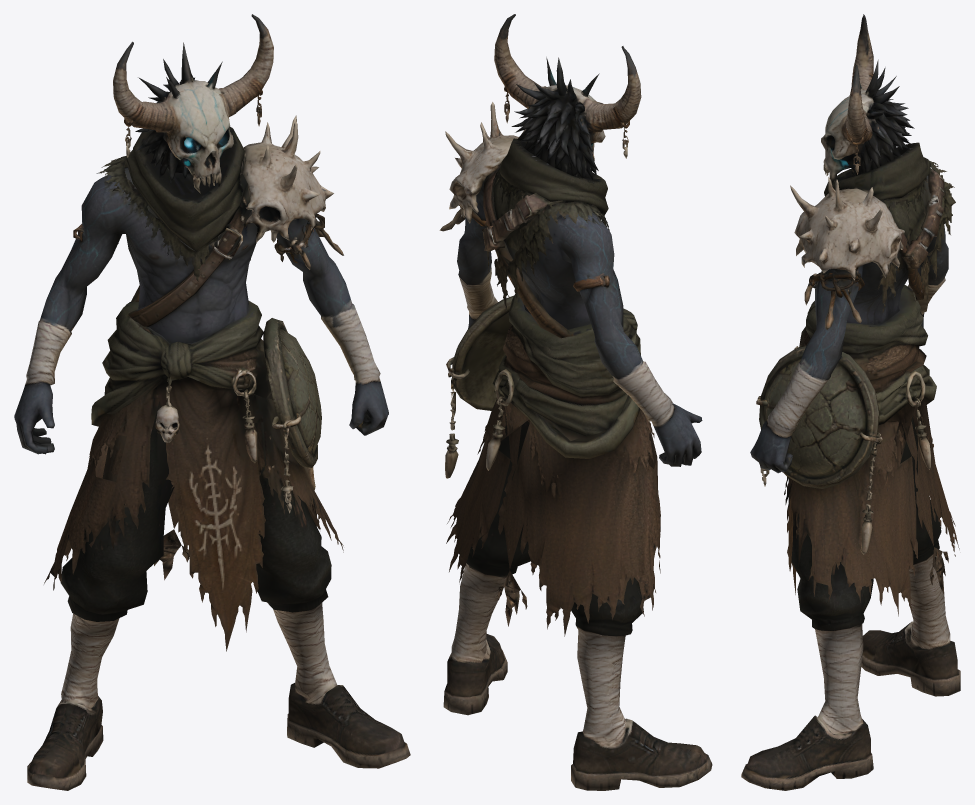
The picture shows the model from 3 angles, left to right: view 1: azimuth 30°, elevation 25°; view 2: azimuth 150°, elevation 25°; view 3: azimuth 270°, elevation 25°; orthographic projection. The views are drawn at different scales.
Visible parts, largest first — view 1: tripo_node_ce07faf6-71b4-4fc9-8eba-c612c2df997f; view 2: tripo_node_ce07faf6-71b4-4fc9-8eba-c612c2df997f; view 3: tripo_node_ce07faf6-71b4-4fc9-8eba-c612c2df997f.
Part boxes in pixels (box(x1,y1,x2,y2)): tripo_node_ce07faf6-71b4-4fc9-8eba-c612c2df997f: box(14, 14, 410, 790); tripo_node_ce07faf6-71b4-4fc9-8eba-c612c2df997f: box(439, 14, 712, 790); tripo_node_ce07faf6-71b4-4fc9-8eba-c612c2df997f: box(741, 14, 960, 790).
Bounding box in the file's own units: 0.4512 × 0.998 × 0.291.
1 material, 1 textured.
